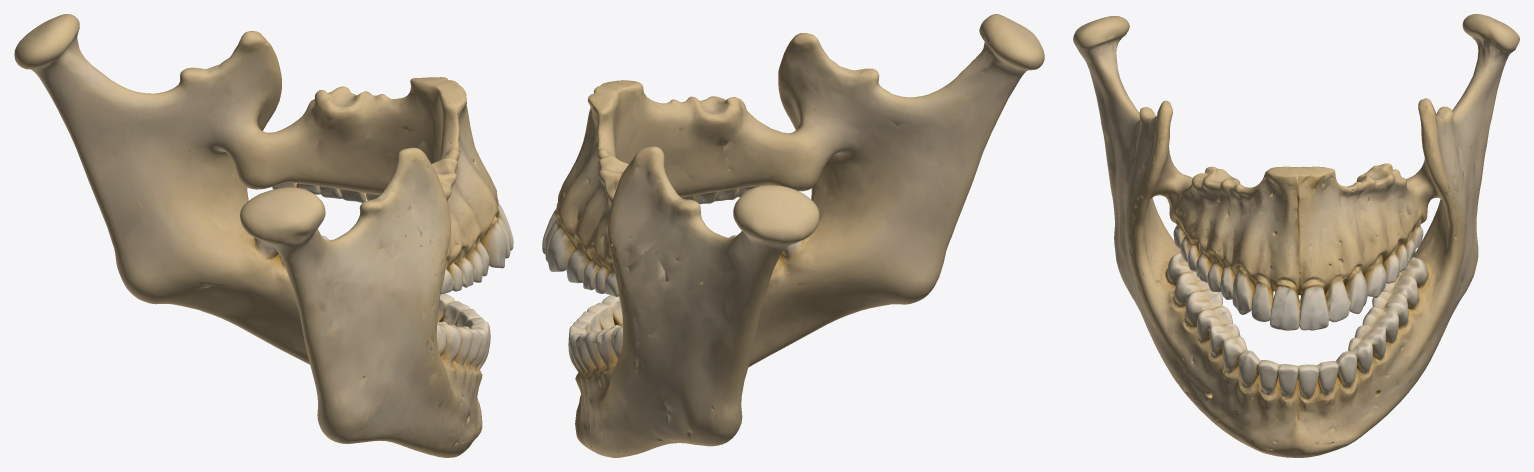
Rendered from dentomaxillofacial.glb.
3 renders of one model, left to right at view 1: azimuth 30°, elevation 25°; view 2: azimuth 150°, elevation 25°; view 3: azimuth 270°, elevation 25°, orthographic. The views are drawn at different scales.
Parts seen in each view (by area): view 1: tripo_node_c2f17e6e-4417-4ff5-949b-e49033365a97; view 2: tripo_node_c2f17e6e-4417-4ff5-949b-e49033365a97; view 3: tripo_node_c2f17e6e-4417-4ff5-949b-e49033365a97.
Part boxes in pixels (left/top/right/bottom): tripo_node_c2f17e6e-4417-4ff5-949b-e49033365a97: left=14, top=14, right=513, bottom=457; tripo_node_c2f17e6e-4417-4ff5-949b-e49033365a97: left=542, top=14, right=1044, bottom=457; tripo_node_c2f17e6e-4417-4ff5-949b-e49033365a97: left=1073, top=14, right=1519, bottom=457.
Bounding box in the file's own units: 0.7947 × 0.8004 × 0.9997.
1 material, 1 textured.
